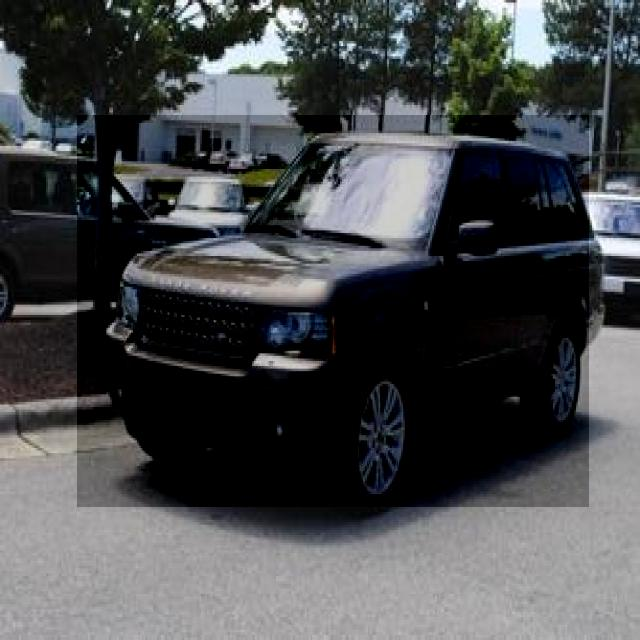Car: (78, 115, 590, 507)
